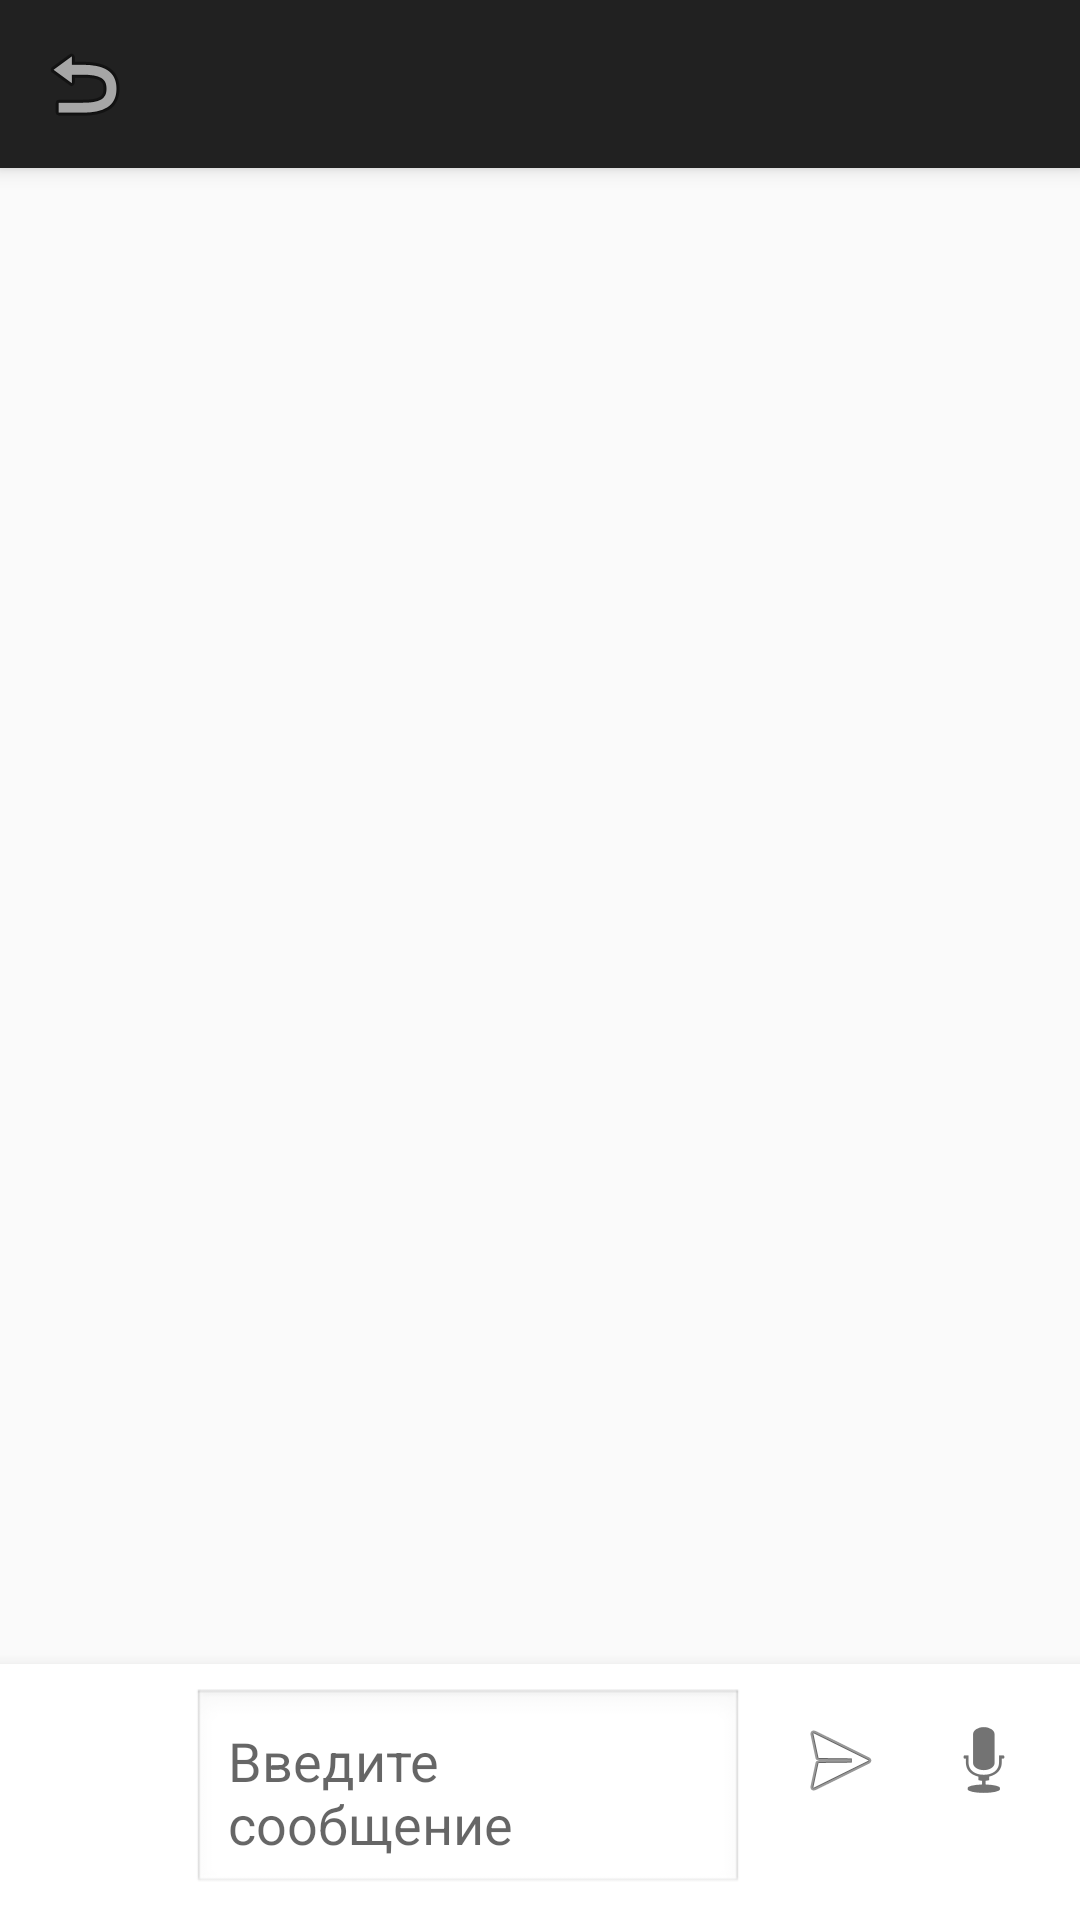

Icons on this 1080px×1920px Android screen, each with its box as (x1, y1, x2, y2):
Записать голосовое: (963, 1727, 1005, 1793)
Отправить: (810, 1730, 872, 1791)
